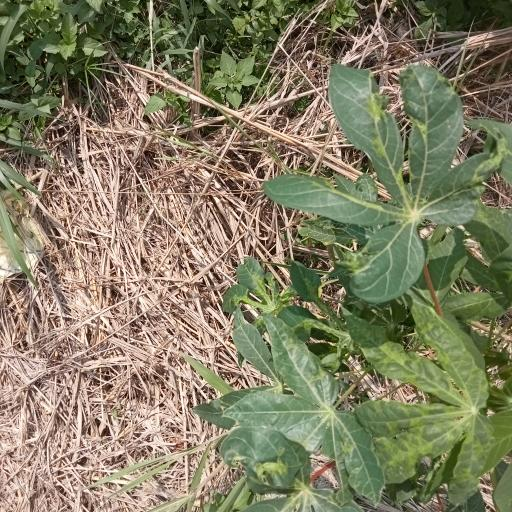Cassava_Mosaic: (287, 65, 508, 303), (356, 307, 512, 501)
